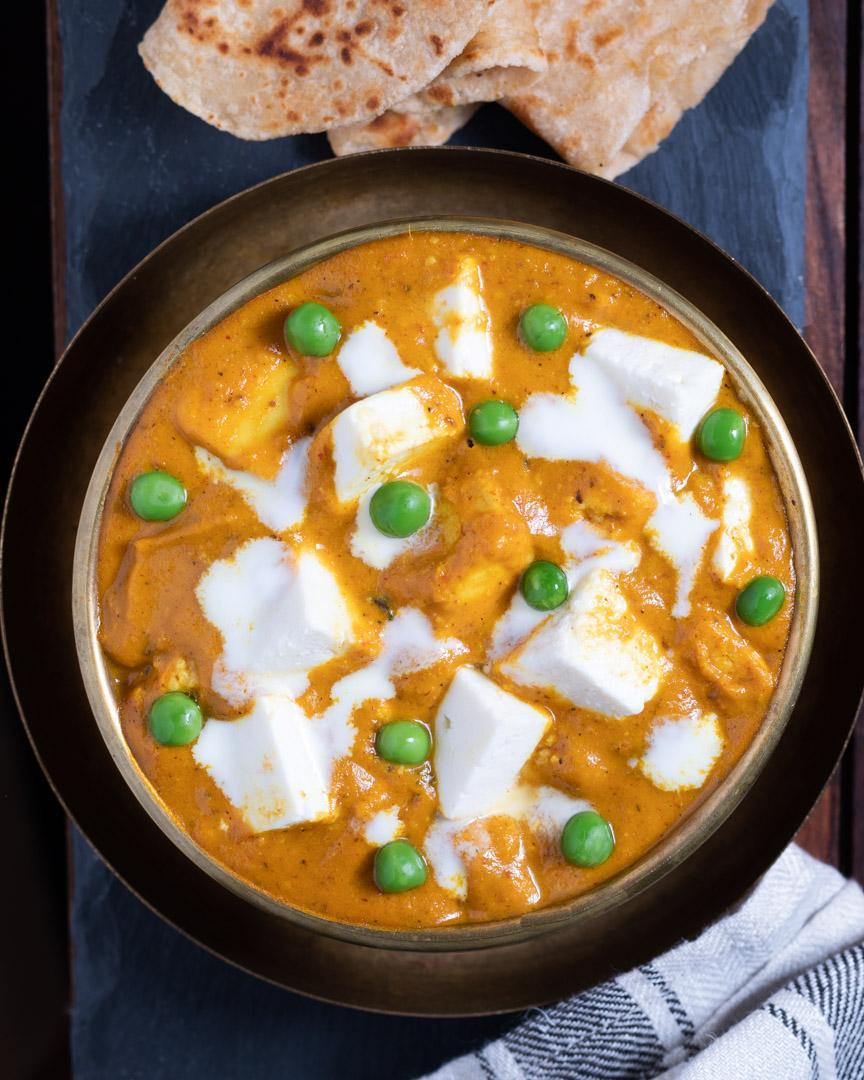paneer: (194, 351, 645, 785)
